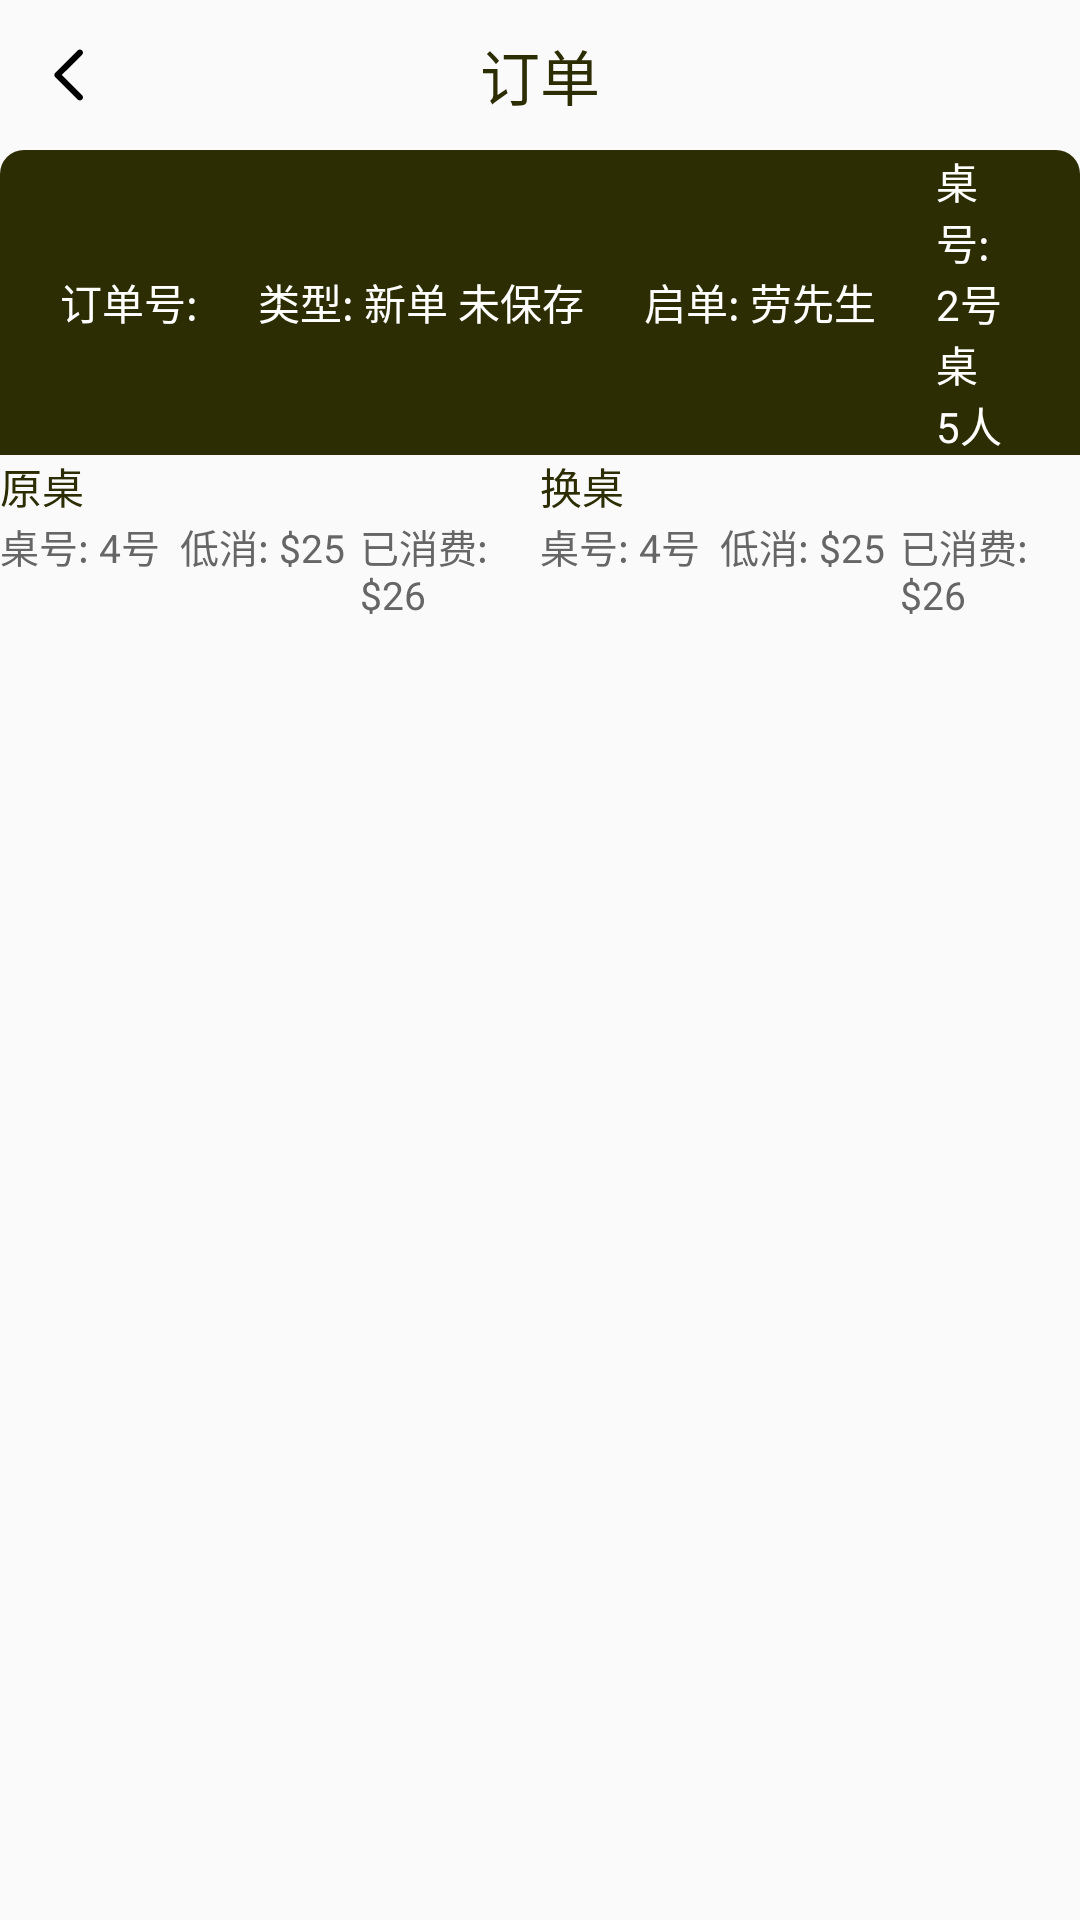

Point at icon controls on the screen. Image size 1080×1920, points as (x,y).
back: (68,75)
